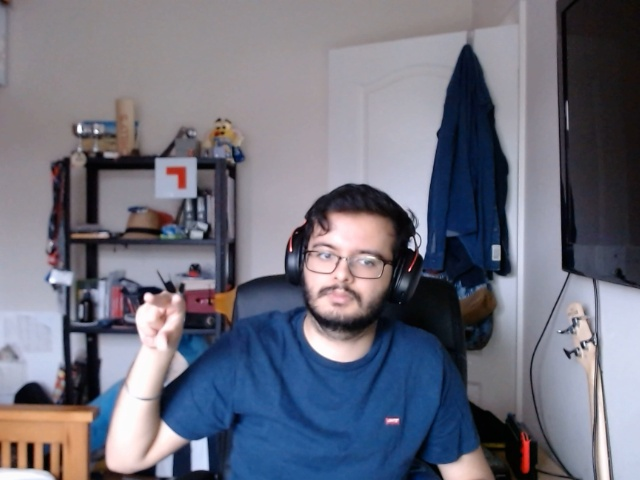No: (121, 275, 198, 373)
